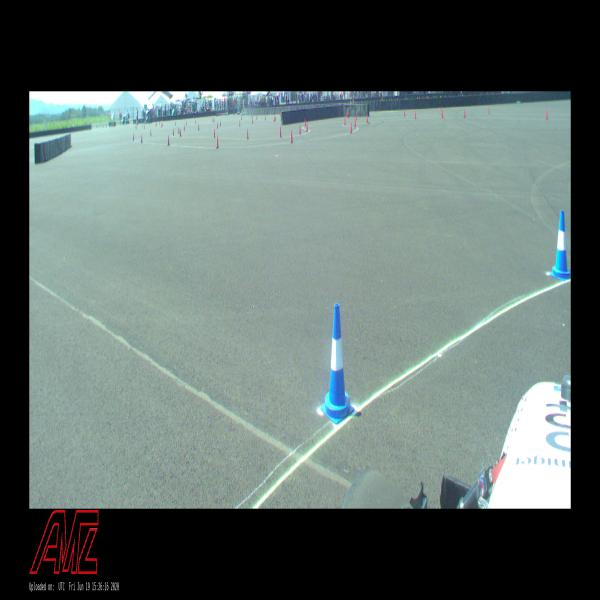blue_cone: (320, 303, 354, 425), (549, 210, 571, 282)
unknown_cone: (246, 127, 250, 142), (298, 123, 302, 135), (290, 129, 293, 144), (216, 135, 219, 149), (140, 134, 144, 144), (346, 106, 349, 119), (279, 125, 282, 138), (167, 134, 170, 146), (463, 108, 466, 118), (414, 110, 417, 120), (366, 113, 369, 123), (546, 107, 548, 120), (350, 121, 352, 134), (306, 121, 308, 133), (172, 128, 175, 136), (442, 107, 444, 118), (354, 117, 356, 128), (344, 115, 346, 126), (488, 105, 490, 115), (132, 132, 134, 142), (180, 128, 182, 138), (304, 118, 306, 128), (404, 109, 406, 117), (150, 128, 152, 136), (198, 123, 200, 131), (178, 126, 180, 134), (238, 120, 240, 128), (216, 121, 218, 129), (252, 117, 254, 124), (264, 114, 266, 121), (213, 117, 215, 123), (161, 122, 163, 128), (212, 116, 214, 122), (256, 114, 258, 120), (273, 116, 275, 122), (214, 128, 215, 138), (356, 112, 357, 120), (220, 120, 221, 128), (184, 124, 185, 131), (195, 118, 196, 125), (251, 113, 252, 120), (186, 120, 187, 126), (275, 115, 276, 121), (241, 114, 242, 120), (175, 121, 176, 126)
